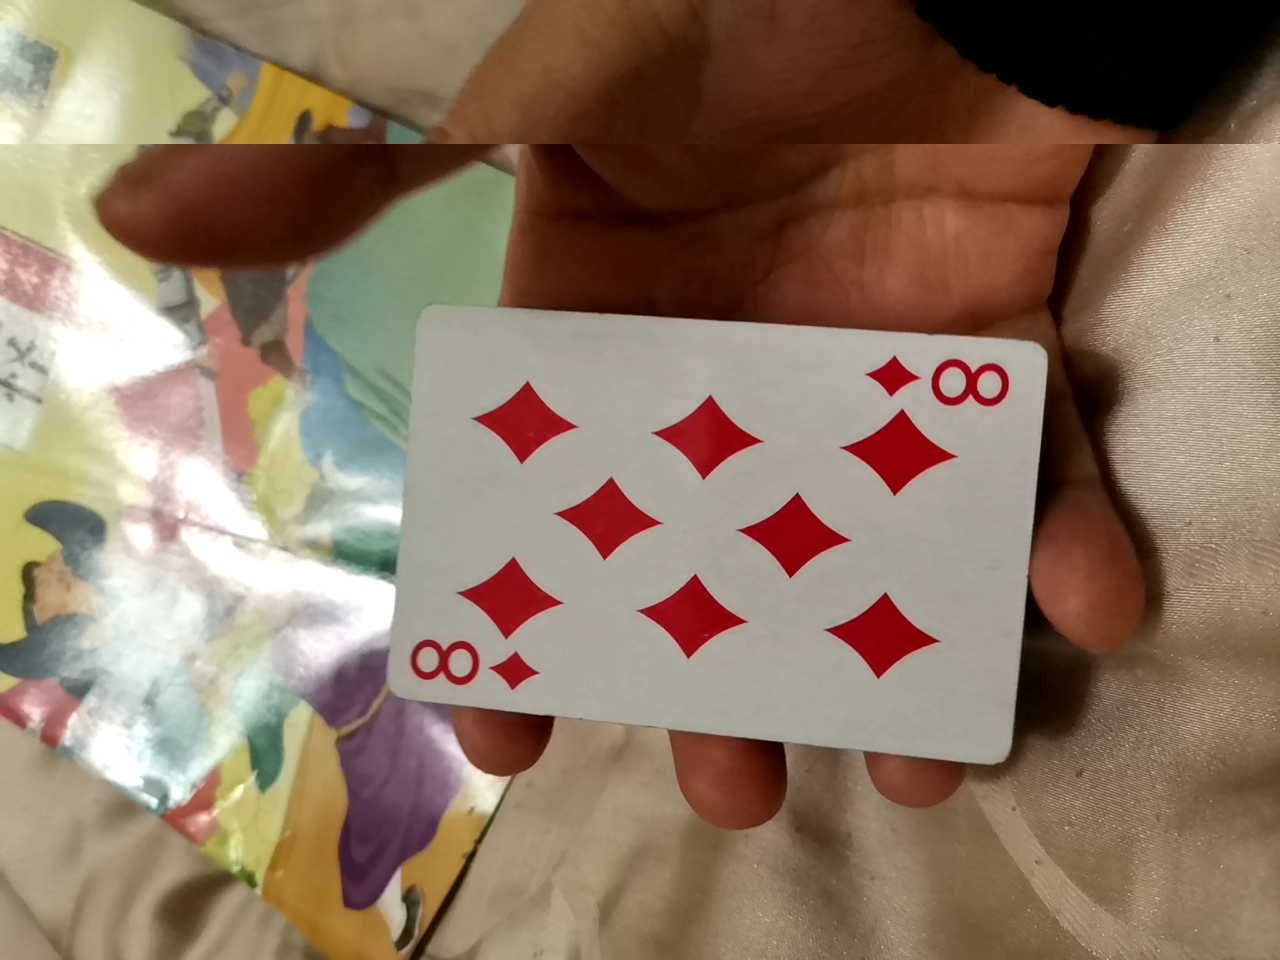fk 8: (459, 337, 1084, 776)
